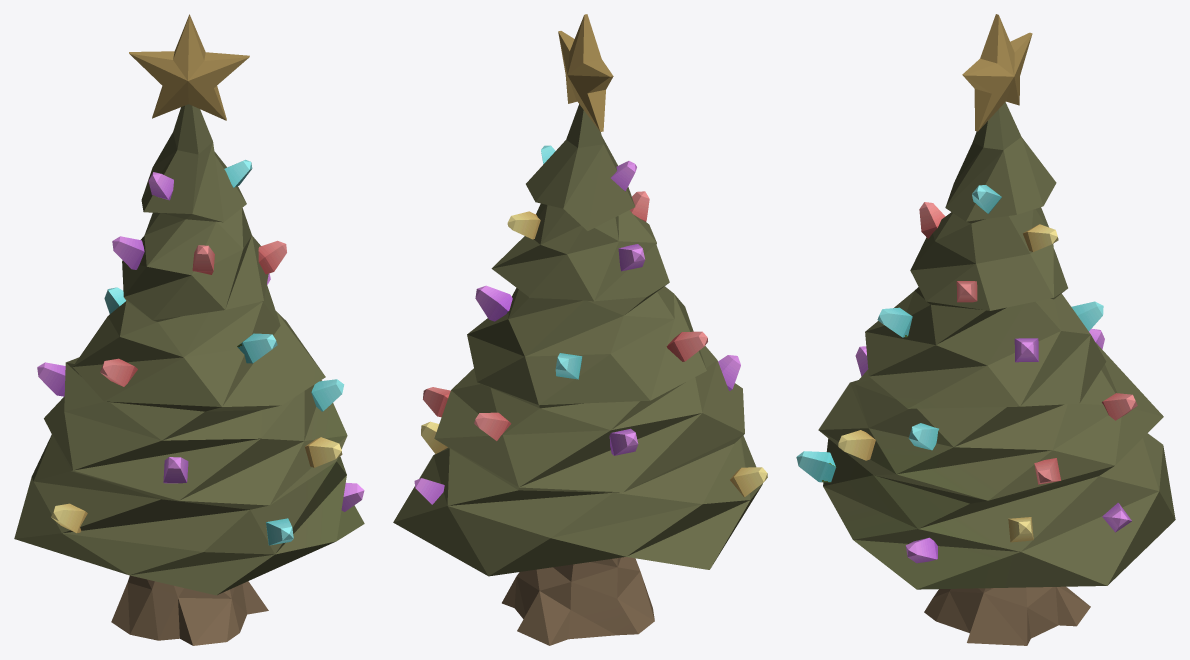
The model's file is holiday_xmasTree (1).fbx.
3 views of the same model, side by side, from view 1: azimuth 30°, elevation 25°; view 2: azimuth 150°, elevation 25°; view 3: azimuth 270°, elevation 25° (orthographic).
Parts seen in each view (by area): view 1: holiday_xmasTree (1); view 2: holiday_xmasTree (1); view 3: holiday_xmasTree (1).
Boxes of the visible parts, <box> form: holiday_xmasTree (1): <box>14,14,364,645</box>; holiday_xmasTree (1): <box>393,14,767,645</box>; holiday_xmasTree (1): <box>796,14,1175,645</box>.
Bounding box in the file's own units: 2.13 × 3.92 × 2.26.
Materials: 2 (2 with a texture image).
